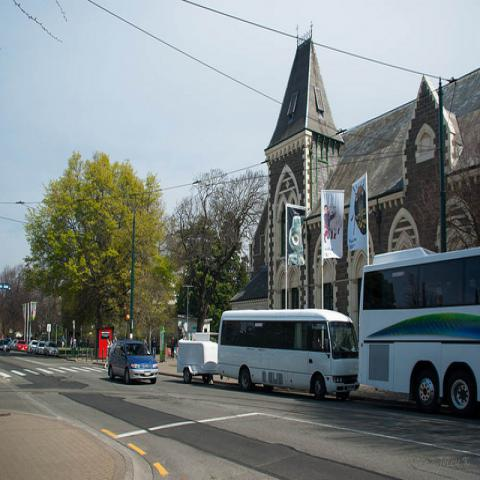bus: (357, 246, 480, 420), (216, 307, 361, 401)
car: (108, 341, 158, 384), (44, 341, 60, 357), (15, 340, 27, 353), (34, 342, 45, 356), (28, 340, 38, 353), (0, 340, 10, 352)
